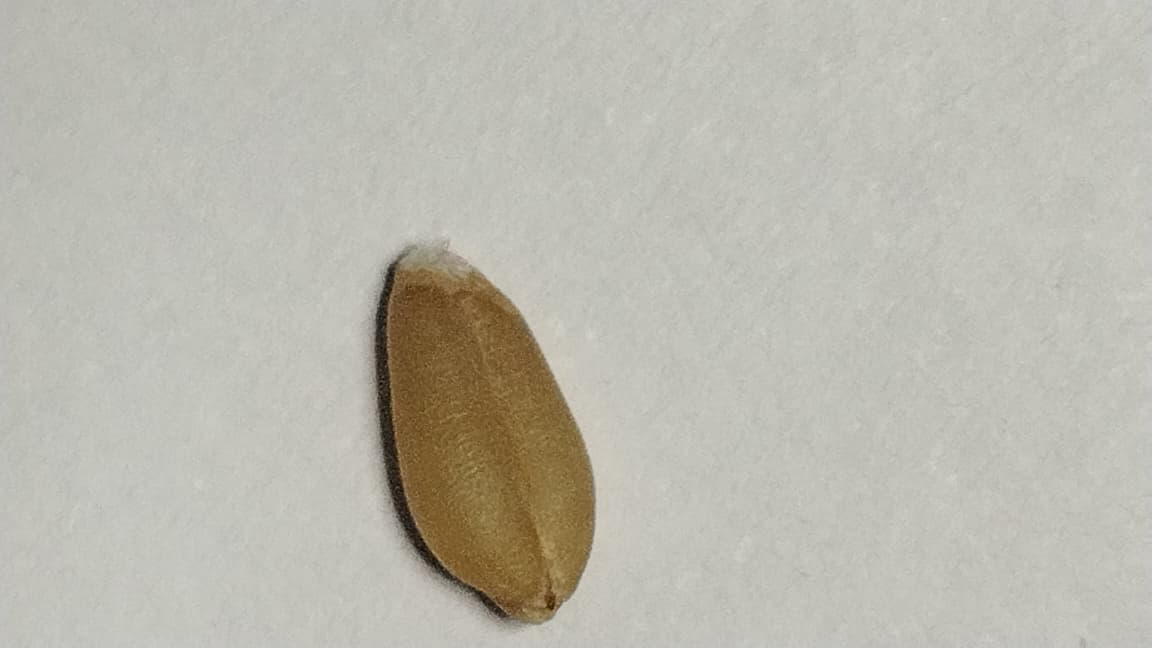healthy: (376, 245, 603, 630)
